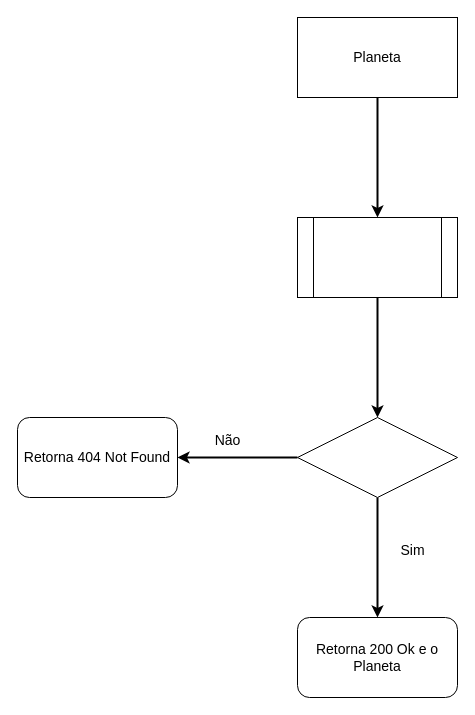
Image size: 475x715. Some labels were removed from this diagram. The shapes that lost their labels are listed below. From the top down, each one's box as (x1, y1, x2, y2) in pixels, then its label:
(296, 216, 458, 298): Get by id
(296, 416, 458, 498): Id existe?
